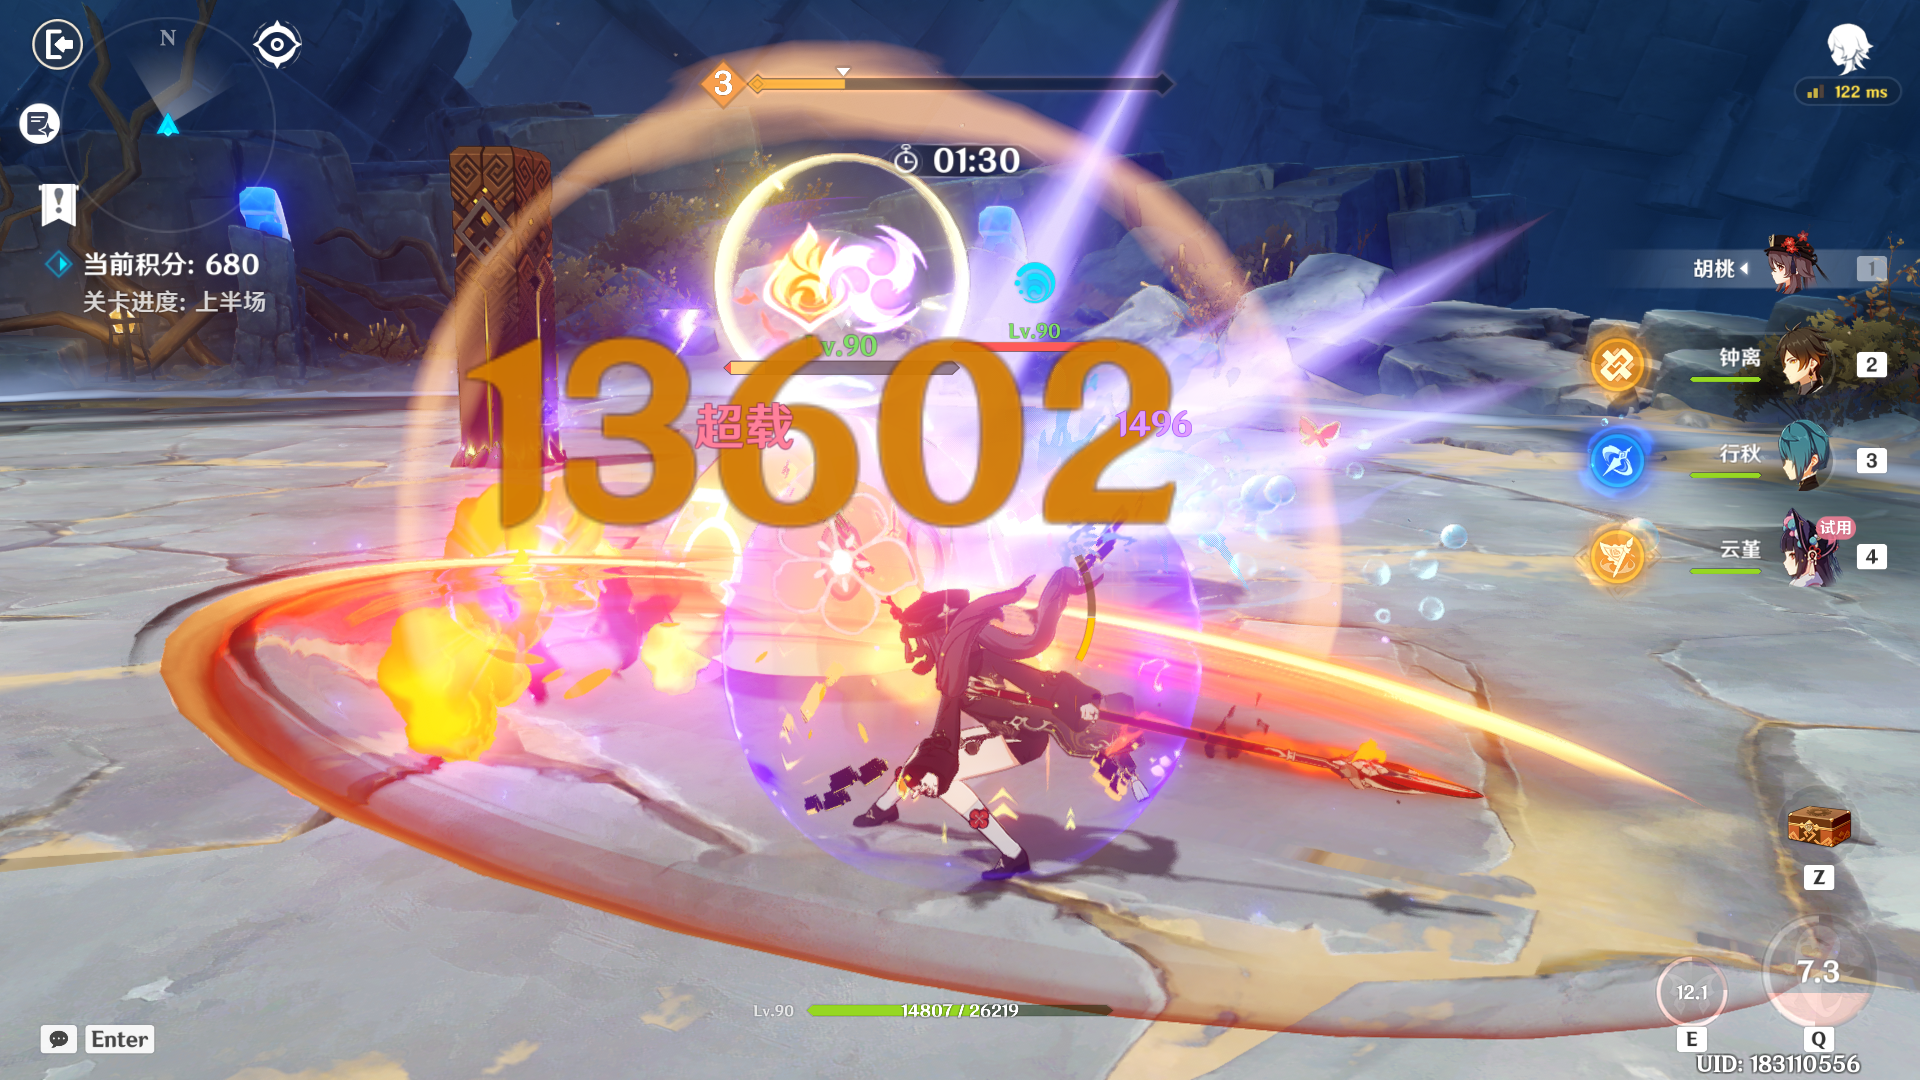character: (837, 553, 1218, 930)
